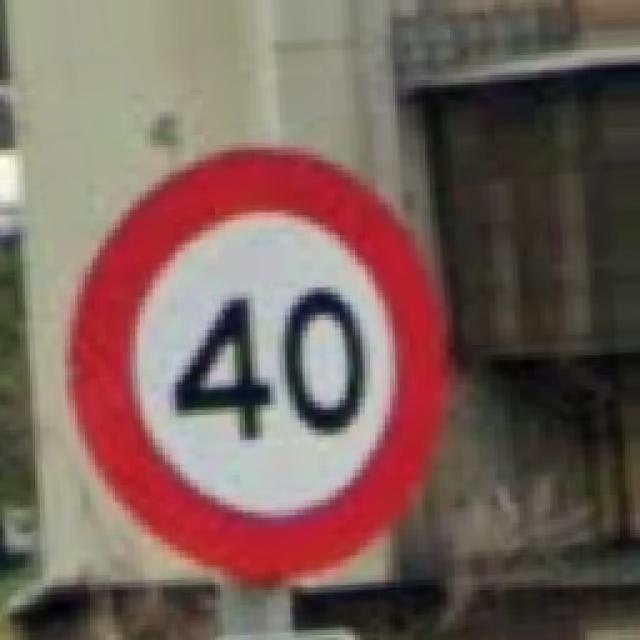Speed Limit -40-: (68, 148, 445, 580)
